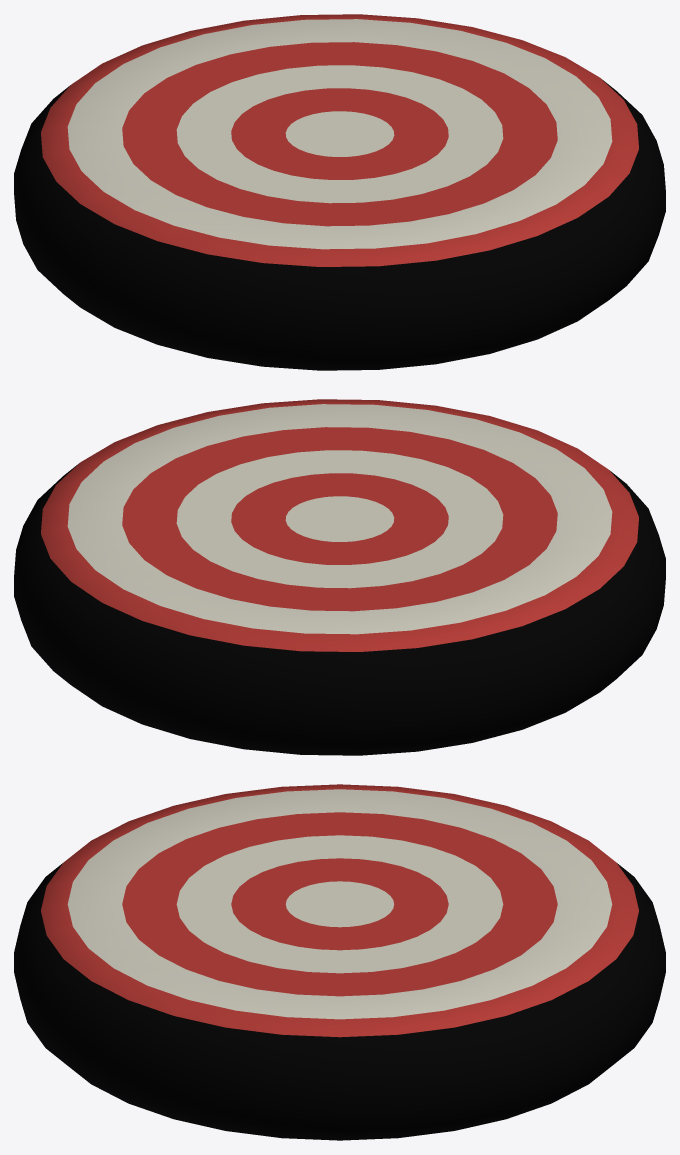
The model's file is diana.fbx.
3 views of the same model, one above another, from view 1: azimuth 30°, elevation 25°; view 2: azimuth 150°, elevation 25°; view 3: azimuth 270°, elevation 25° (orthographic).
Parts seen in each view (by area): view 1: Cylinder.014; view 2: Cylinder.014; view 3: Cylinder.014.
Boxes of the visible parts, box(x1,y1,x2,y2) form: Cylinder.014: box(14, 14, 665, 370); Cylinder.014: box(14, 399, 665, 755); Cylinder.014: box(14, 784, 665, 1140).
Size of the model in its own units: 285 by 56.21 by 285.
